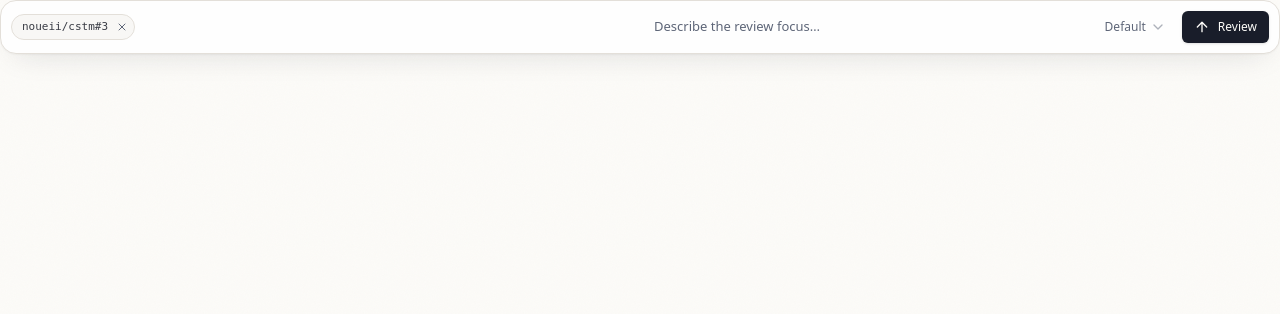
Test: pre-flight refusals › still says something when pre-flight explains nothing
Click the button with aria-label "Start review".
click(1225, 27)  # box x1=1182 y1=11 x2=1269 y2=43
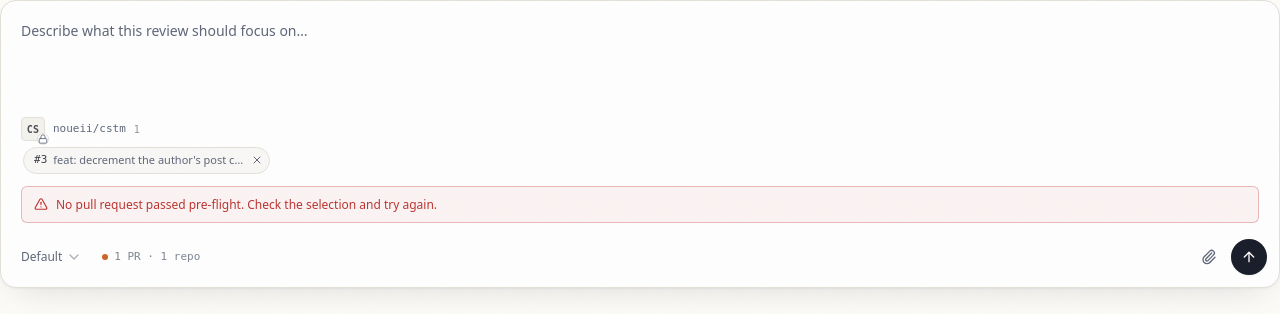
Now the text "No pull request passed pre-flight" is shown, box x1=56 y1=196 x2=437 y2=212
